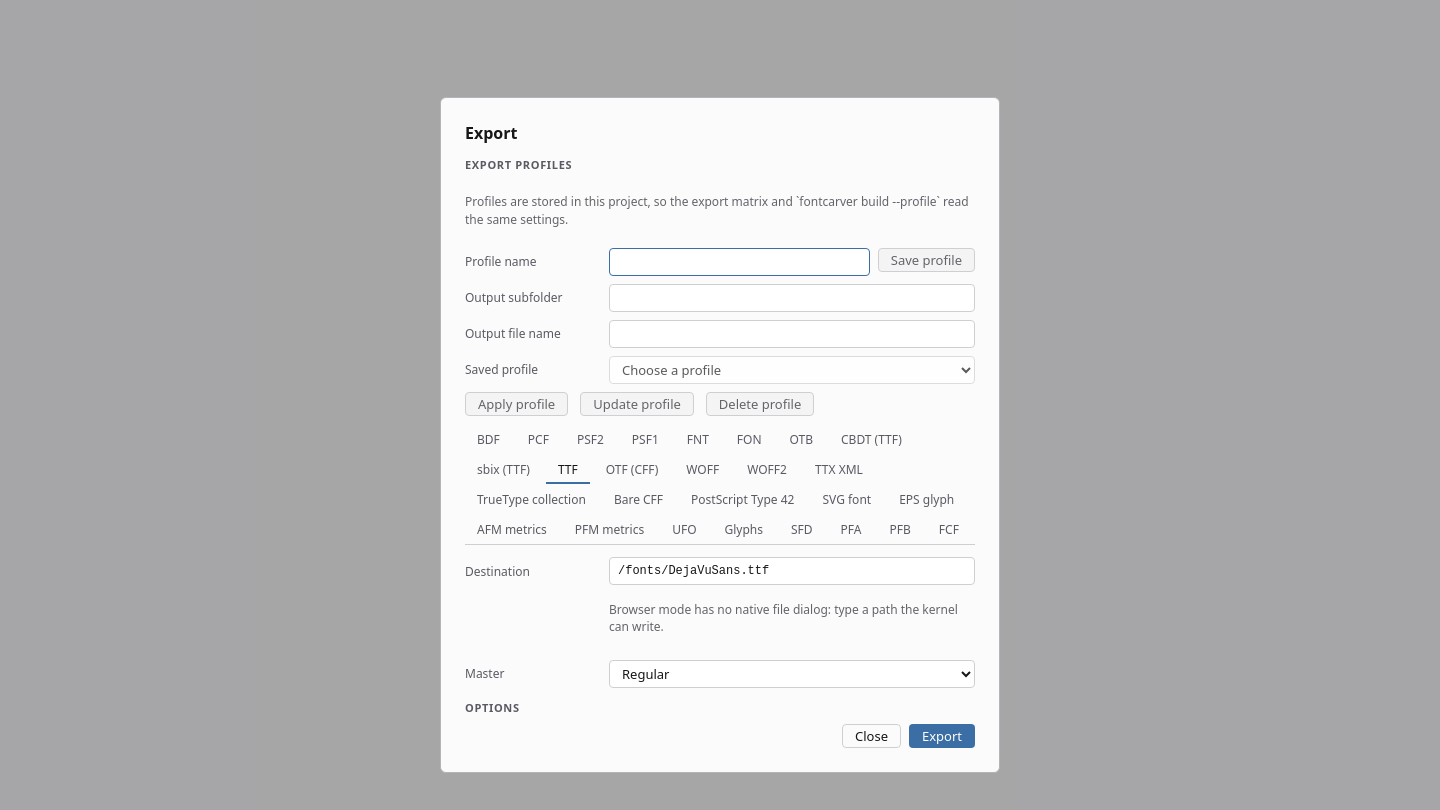
Test: ExportDialog › caps the chips of a warning that names thousands of glyphs
The image size is (1440, 810).
Click the button "Export": [942, 736] box [909,724,975,748]
(page scrolled)
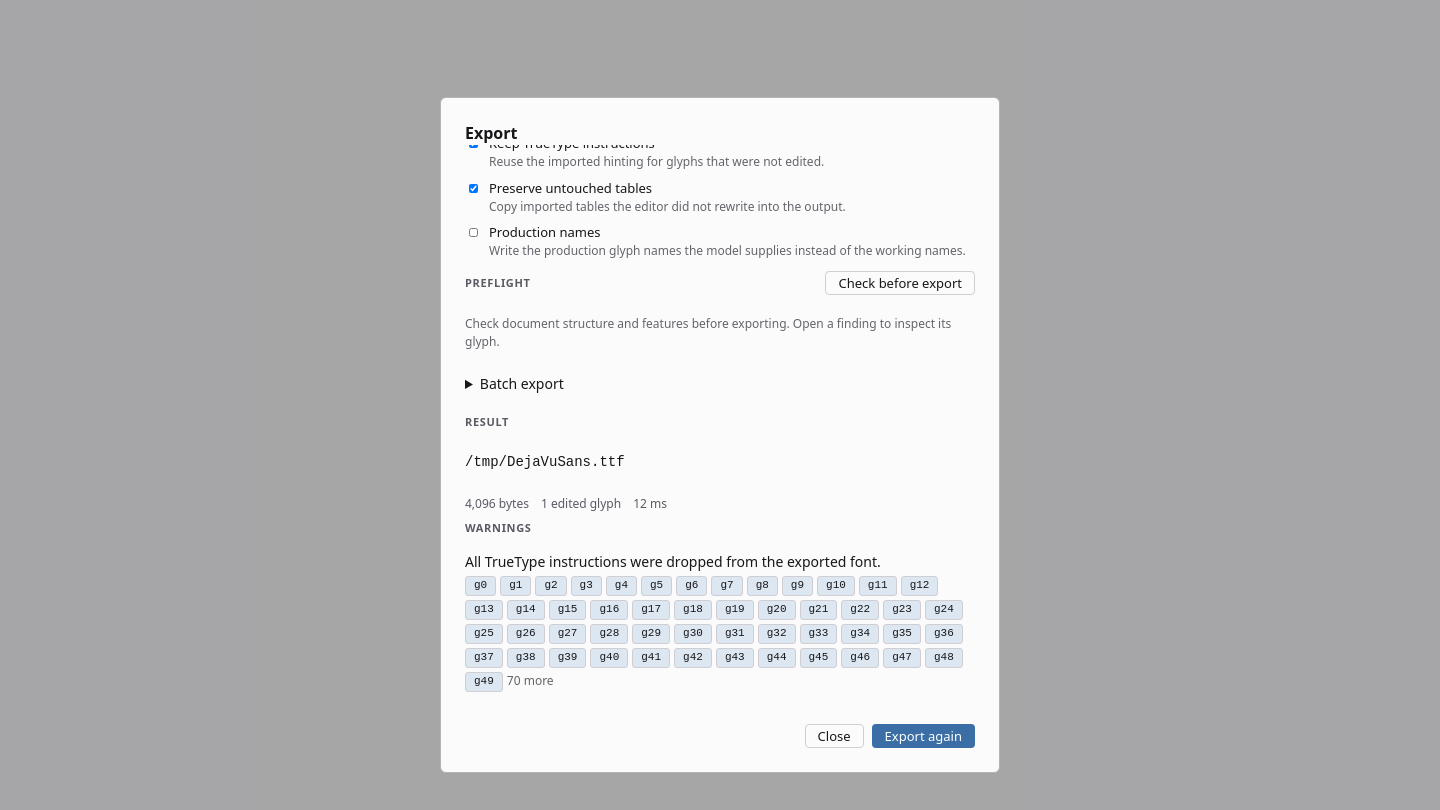
Result: the button "g0" is shown at [465,576,496,596]
Result: the number of buttons titled "Select g0 in the Font view" is 50
Result: the text "70 more" is shown at [507,672,554,692]
